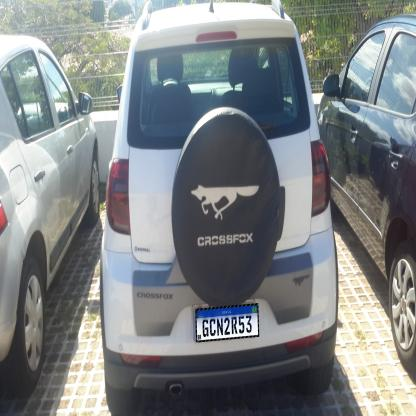PlacaM: (195, 304, 259, 342)
